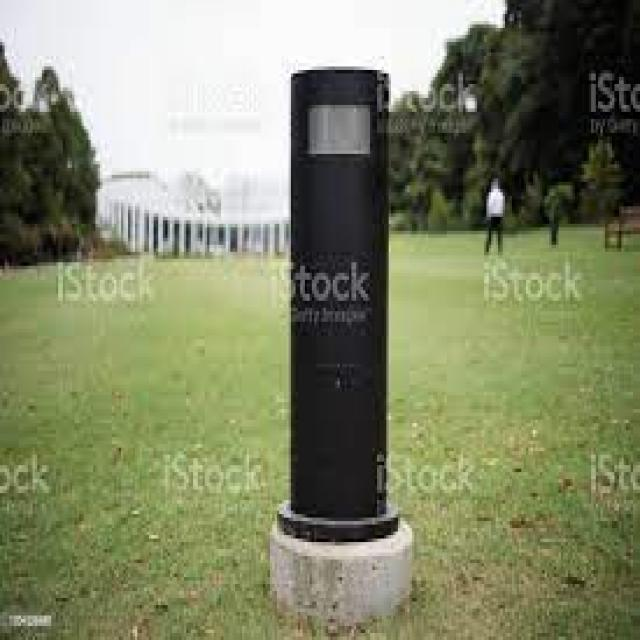bollard: (266, 48, 424, 546)
